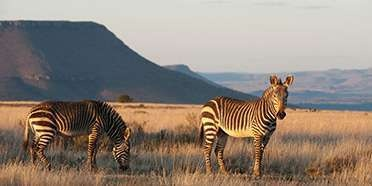zebra: (197, 71, 293, 176), (23, 97, 134, 173)
